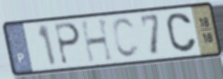1: (37, 23, 58, 68)
7: (139, 12, 162, 59)
C: (165, 11, 199, 54), (111, 16, 142, 60)
H: (79, 16, 116, 65)
P: (53, 21, 82, 66)
